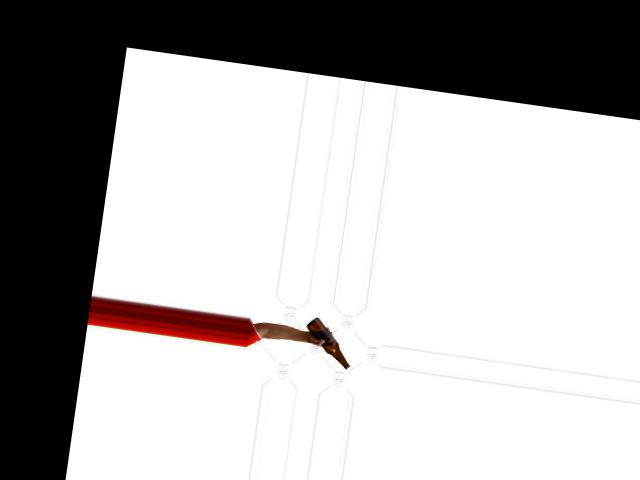beer: (301, 315, 355, 368)
